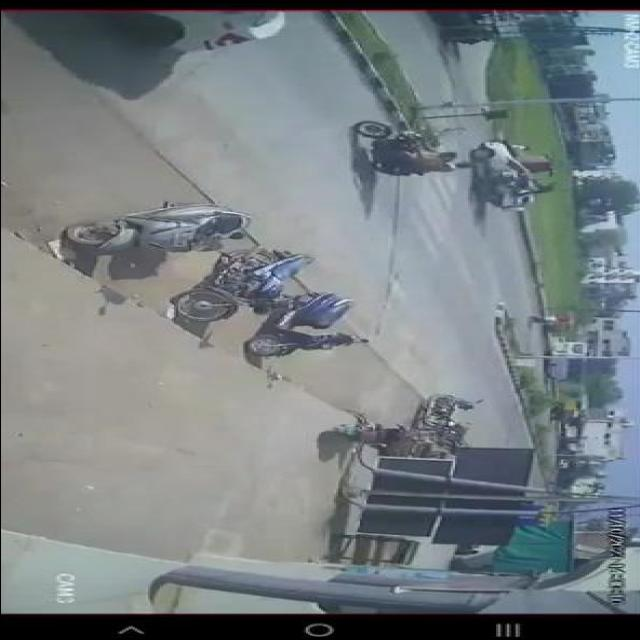accident: (464, 131, 564, 211)
